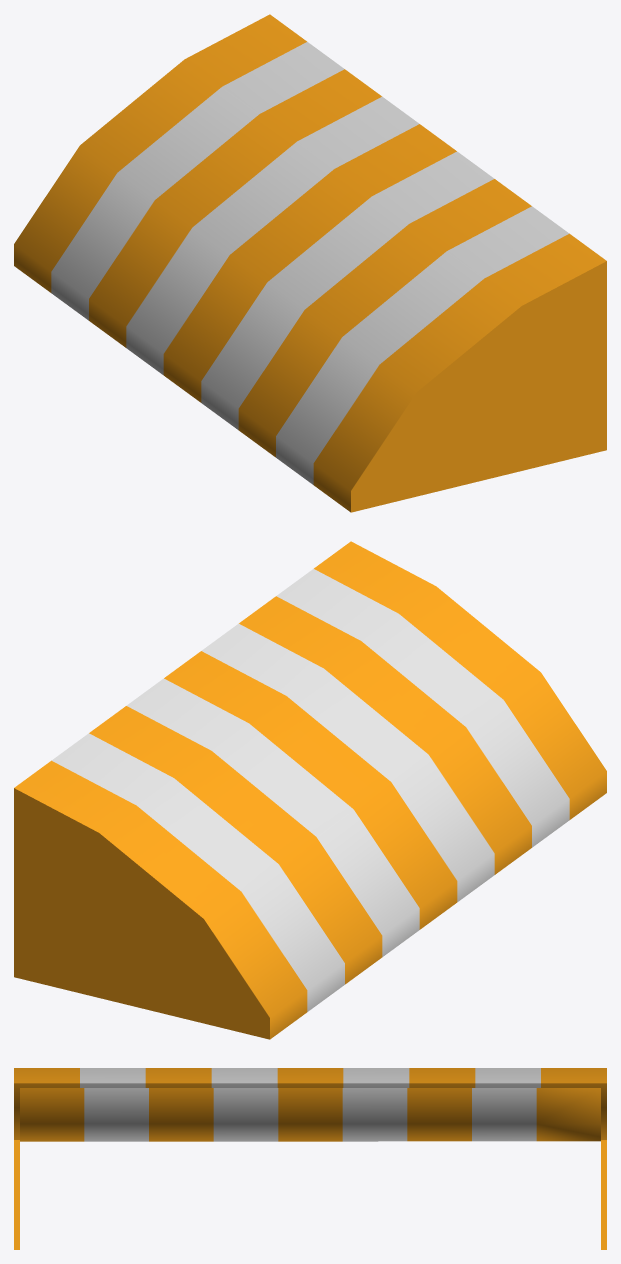
The model's file is Awning_1_A.fbx.
The picture shows the model from 3 angles, top to bottom: view 1: azimuth 30°, elevation 25°; view 2: azimuth 150°, elevation 25°; view 3: azimuth 270°, elevation 25°; orthographic projection. The views are drawn at different scales.
Visible parts, largest first — view 1: Awning_1_A; view 2: Awning_1_A; view 3: Awning_1_A.
Boxes of the visible parts, x1,y1,x2,y2 form: Awning_1_A: (14,14,606,512); Awning_1_A: (14,541,606,1039); Awning_1_A: (14,1068,606,1249).
Size of the model in its own units: 123 by 86.57 by 280.
